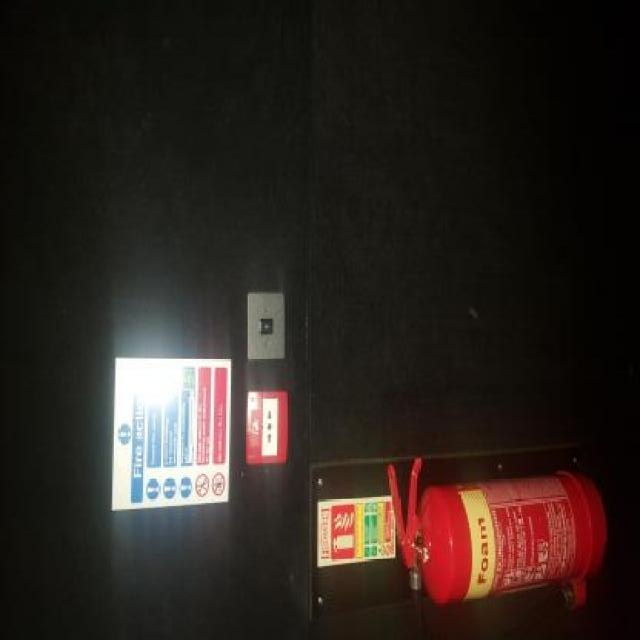fire extinguisher: (388, 458, 607, 640)
